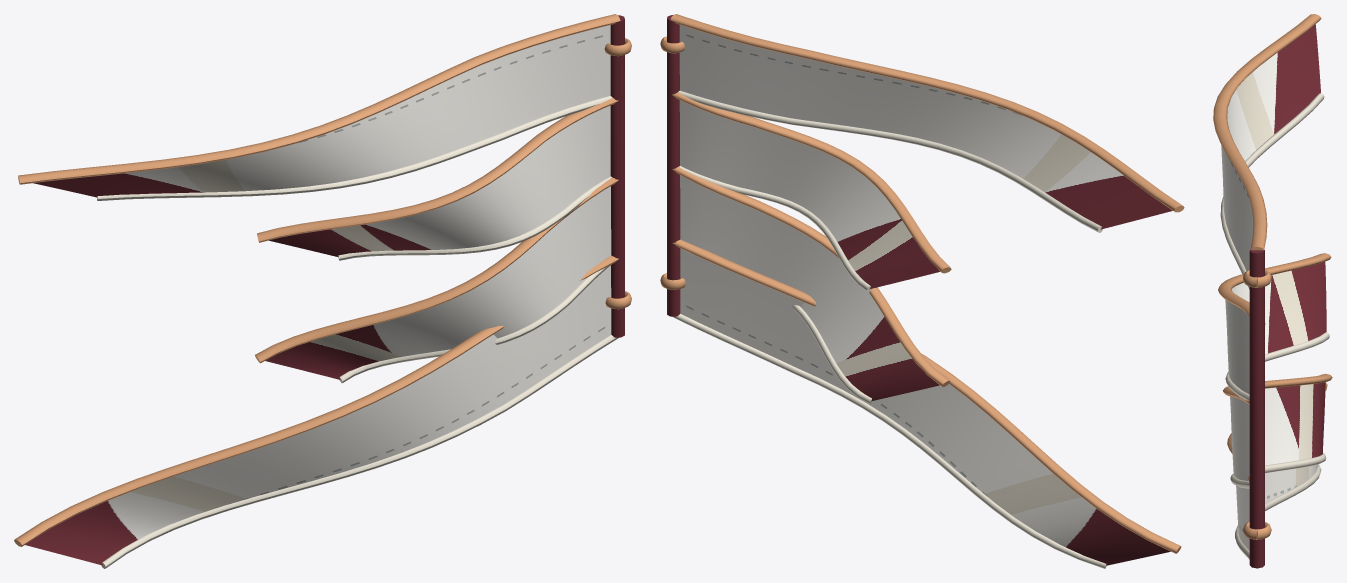
File: Pennant_30_UR_濃藍・赤金翼.glb
3 views of the same model, side by side, from view 1: azimuth 30°, elevation 25°; view 2: azimuth 150°, elevation 25°; view 3: azimuth 270°, elevation 25° (orthographic). The views are drawn at different scales.
Parts seen in each view (by area): view 1: Pennant_30_UR; view 2: Pennant_30_UR; view 3: Pennant_30_UR.
Boxes of the visible parts, <box> form: Pennant_30_UR: <box>14,14,631,568</box>; Pennant_30_UR: <box>660,14,1184,568</box>; Pennant_30_UR: <box>1213,14,1332,568</box>.
Size of the model in its own units: 0.348 by 0.2586 by 0.0619.
Materials: 3 (3 with a texture image).
